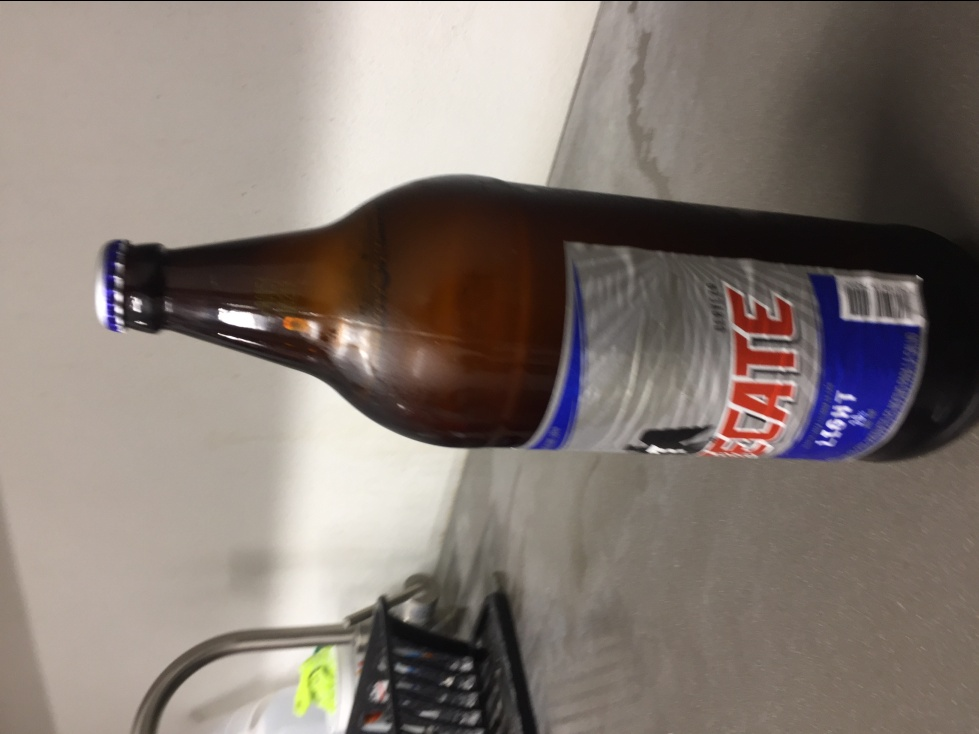tecateC: (95, 173, 979, 465)
